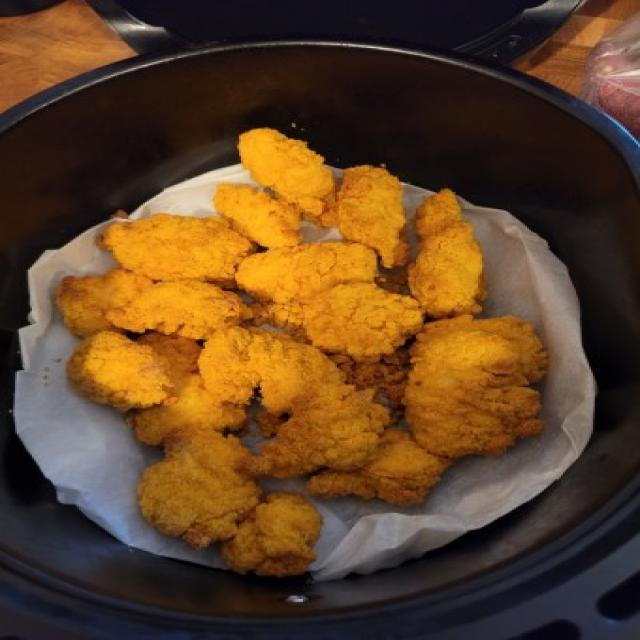Frango: (62, 127, 536, 559)
